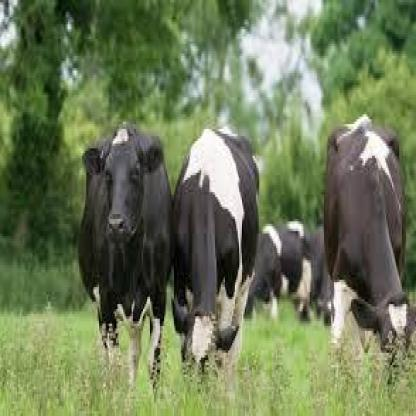cow: (325, 116, 414, 374), (171, 125, 259, 383), (82, 130, 167, 383)
